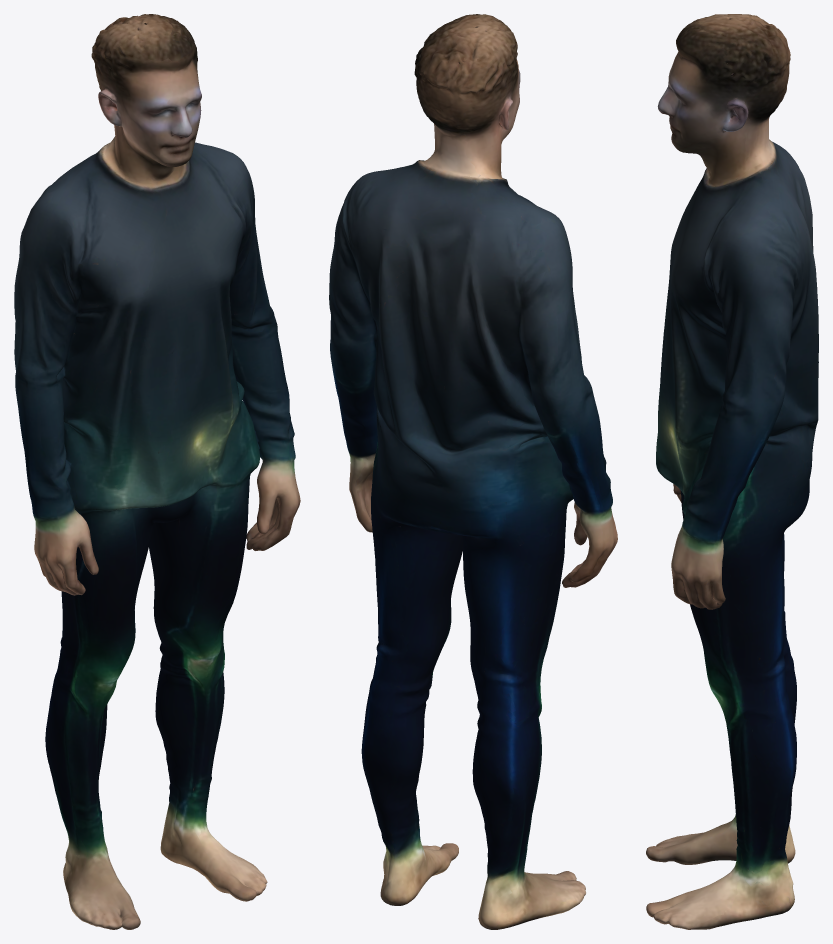
3 views of the same model, side by side, from view 1: azimuth 30°, elevation 25°; view 2: azimuth 150°, elevation 25°; view 3: azimuth 270°, elevation 25° (orthographic).
Parts seen in each view (by area): view 1: world; view 2: world; view 3: world.
Boxes of the visible parts, <box> form: world: <box>14,14,300,929</box>; world: <box>329,14,617,929</box>; world: <box>646,14,818,929</box>.
Size of the model in its own units: 0.3132 by 1 by 0.1804.
1 material, 1 textured.
